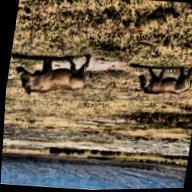boar: (12, 50, 95, 101)
